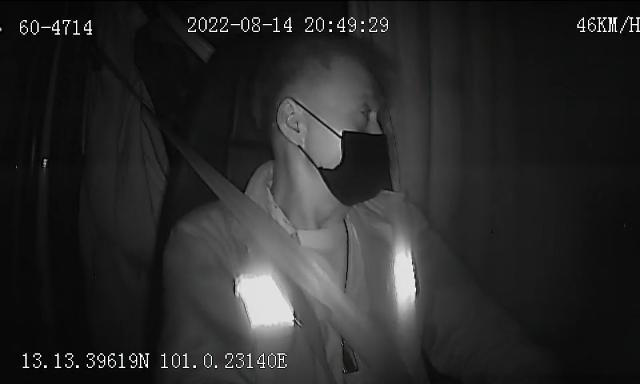Seatbelt: (190, 154, 370, 384)
